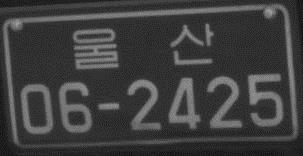-: (95, 97, 124, 115)
0: (18, 81, 55, 138)
2: (205, 73, 243, 131), (125, 76, 162, 132)
4: (165, 75, 202, 132)
5: (246, 71, 284, 130)
6: (56, 80, 93, 136)
울산_D: (71, 20, 216, 72)
